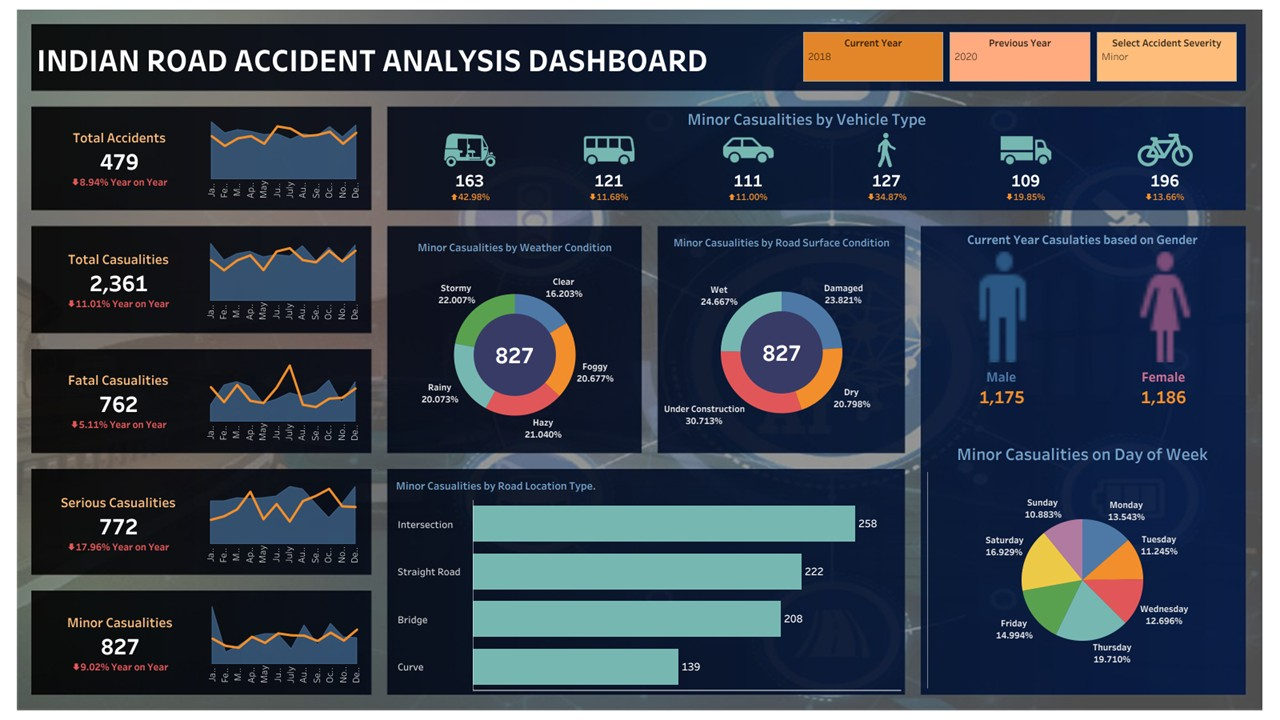

The page's visual inventory and layout, read from the dashboard file:
{"tool":"tableau","page":{"name":"Dashboard 1","canvas":[1600,900],"ordinal":0},"visuals":[{"type":"image","param":"C:/Users/G15/Desktop/Background/Slide4.JPG","box":[8,8,1584,884]},{"type":"parameter","param":"[Parameters].[Parameter 1]","box":[1000,36,183.3,70]},{"type":"parameter","param":"[Parameters].[Current Year (copy)_1494913626236338176]","box":[1183.3,36,183.3,70]},{"type":"parameter","param":"[Parameters].[Parameter 2]","box":[1366.7,36,183.3,70]},{"type":"text","box":[43,54,976,40]},{"type":"text","box":[833,133,351,30]},{"type":"worksheet","title":"Total Accidents","mark":"Automatic","box":[47,144,205,110]},{"type":"worksheet","title":"Accident Sparkline","mark":"Line","rows":["Current Year Calculations (copy)_1494913626239045635","Calculation_1494913626236710914"],"cols":["Month"],"box":[252,144,205,110]},{"type":"worksheet","title":"Vehicle Type Images","mark":"Shape","box":[497,158,1050,53]},{"type":"worksheet","title":"Vehicle Type","mark":"Automatic","box":[497,211,1050,47]},{"type":"text","box":[1154,284,398,30]},{"type":"worksheet","title":"Road Condition","mark":"Pie","rows":["Calculation_1510957700476612609","Calculation_1510957700476633091"],"box":[827,288,300,272]},{"type":"worksheet","title":"Weather Condition","mark":"Pie","rows":["Calculation_1510957700476612609","Calculation_1510957700476633091"],"box":[492,294,303,266]},{"type":"worksheet","title":"Total Casualties","mark":"Automatic","box":[46,296,205,110]},{"type":"worksheet","title":"Casualties Sparkline","mark":"Line","rows":["Current Year Casualties (copy)_1494913626245230598","Calculation_1494913626243911685"],"cols":["Month"],"box":[251,296,205,110]},{"type":"worksheet","title":"Gender(Male) Image","mark":"Shape","box":[1157,310,201,147]},{"type":"worksheet","title":"Gender(Female) Image","mark":"Shape","box":[1358,310,200,147]},{"type":"worksheet","title":"Fatal Casualties","mark":"Automatic","box":[46,447,205,110]},{"type":"worksheet","title":"Fatal Sparkline","mark":"Line","rows":["CY Fatal Casualties (copy)_1494913626247024649","Calculation_1494913626246340616"],"cols":["Month"],"box":[251,447,205,110]},{"type":"worksheet","title":"Gender(Male)","mark":"Automatic","cols":["Driver Gender"],"box":[1151,448,203,75]},{"type":"worksheet","title":"Gender(Female)","mark":"Automatic","cols":["Driver Gender"],"box":[1354,448,202,75]},{"type":"worksheet","title":"Day of Week","mark":"Pie","rows":["Calculation_1510957700476612609"],"box":[1155,543,396,321]},{"type":"worksheet","title":"Road Type","mark":"Automatic","rows":["Accident Location Details"],"cols":["Calculation_1494913626243911685"],"box":[491,592,635,271]},{"type":"worksheet","title":"Serious Casualties","mark":"Automatic","box":[46,600,205,110]},{"type":"worksheet","title":"Serious Sparkline","mark":"Line","rows":["PY Fatal Casualties  (copy)_1494913626249134093","CY Fatal Casualties (copy)_1494913626248876043"],"cols":["Month"],"box":[251,600,205,110]},{"type":"worksheet","title":"Minor Casualties","mark":"Automatic","box":[48,750,205,110]},{"type":"worksheet","title":"Minor Sparkline","mark":"Line","rows":["PY Serious Casualties (copy)_1494913626250043408","CY Serious Casualties (copy)_1494913626249941007"],"cols":["Month"],"box":[253,750,205,110]}]}

Visuals, with their boxes in screenshot pixels (x1, y1, x2, y2), scaled from the page's 1600x900 canvas onto the 1280x720 screenshot:
image: 6:6:1274:714
parameter: 800:29:947:85
parameter: 947:29:1093:85
parameter: 1093:29:1240:85
text: 34:43:815:75
text: 666:106:947:130
"Total Accidents" worksheet: 38:115:202:203
"Accident Sparkline" worksheet (Line marks): 202:115:366:203
"Vehicle Type Images" worksheet (Shape marks): 398:126:1238:169
"Vehicle Type" worksheet: 398:169:1238:206
text: 923:227:1242:251
"Road Condition" worksheet (Pie marks): 662:230:902:448
"Weather Condition" worksheet (Pie marks): 394:235:636:448
"Total Casualties" worksheet: 37:237:201:325
"Casualties Sparkline" worksheet (Line marks): 201:237:365:325
"Gender(Male) Image" worksheet (Shape marks): 926:248:1086:366
"Gender(Female) Image" worksheet (Shape marks): 1086:248:1246:366
"Fatal Casualties" worksheet: 37:358:201:446
"Fatal Sparkline" worksheet (Line marks): 201:358:365:446
"Gender(Male)" worksheet: 921:358:1083:418
"Gender(Female)" worksheet: 1083:358:1245:418
"Day of Week" worksheet (Pie marks): 924:434:1241:691
"Road Type" worksheet: 393:474:901:690
"Serious Casualties" worksheet: 37:480:201:568
"Serious Sparkline" worksheet (Line marks): 201:480:365:568
"Minor Casualties" worksheet: 38:600:202:688
"Minor Sparkline" worksheet (Line marks): 202:600:366:688
